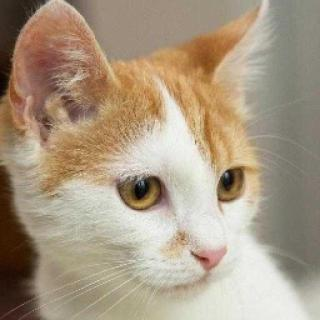cat: (8, 5, 285, 299)
nose: (179, 212, 231, 272)
